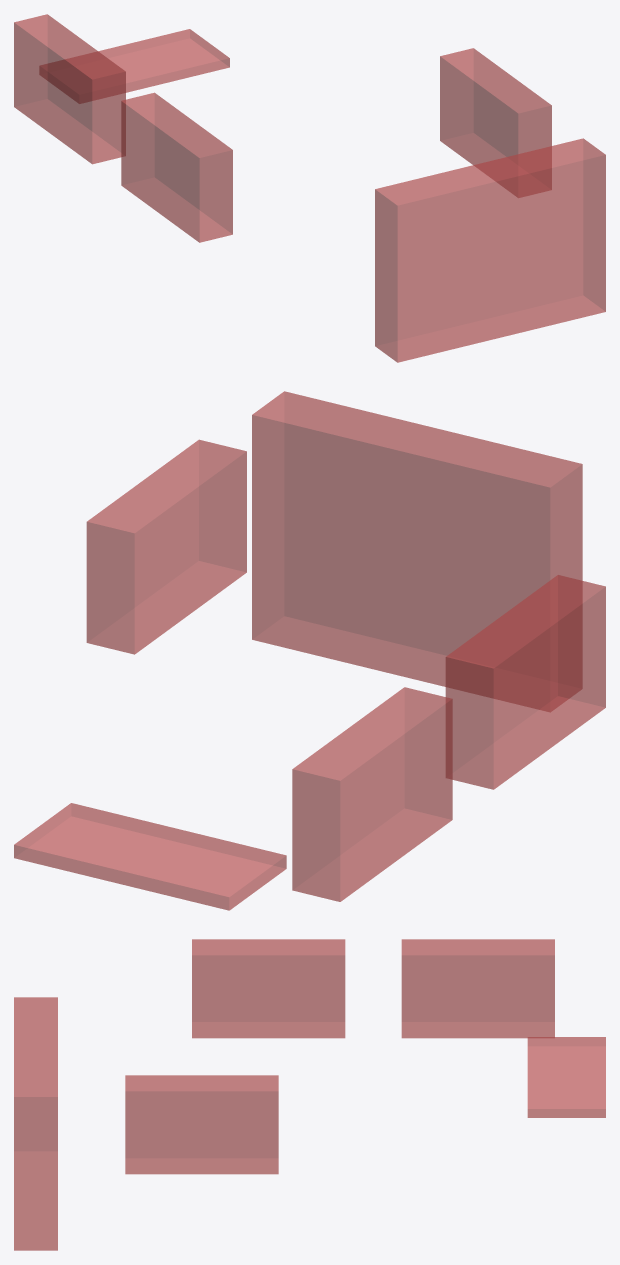
File: SM_Bld_Chopshop_Interior_01_Collision.fbx
3 views of the same model, one above another, from view 1: azimuth 30°, elevation 25°; view 2: azimuth 150°, elevation 25°; view 3: azimuth 270°, elevation 25° (orthographic). The views are drawn at different scales.
Visible parts, largest first — view 1: SM_Bld_Chopshop_Interior_01_Collision; view 2: SM_Bld_Chopshop_Interior_01_Collision; view 3: SM_Bld_Chopshop_Interior_01_Collision.
Part boxes in pixels (box(x1,y1,x2,y2)): SM_Bld_Chopshop_Interior_01_Collision: box(14, 14, 605, 362); SM_Bld_Chopshop_Interior_01_Collision: box(14, 391, 605, 910); SM_Bld_Chopshop_Interior_01_Collision: box(14, 939, 605, 1250).
Bounding box in the file's own units: 475 × 234 × 782.
